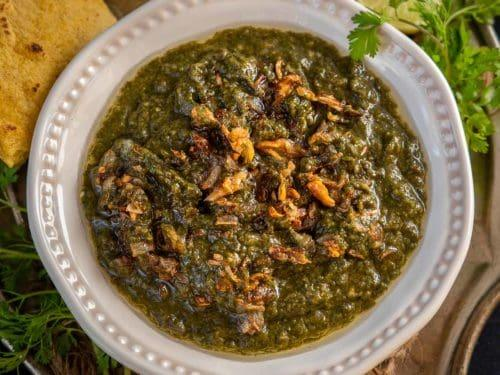saag: (86, 27, 440, 356)
